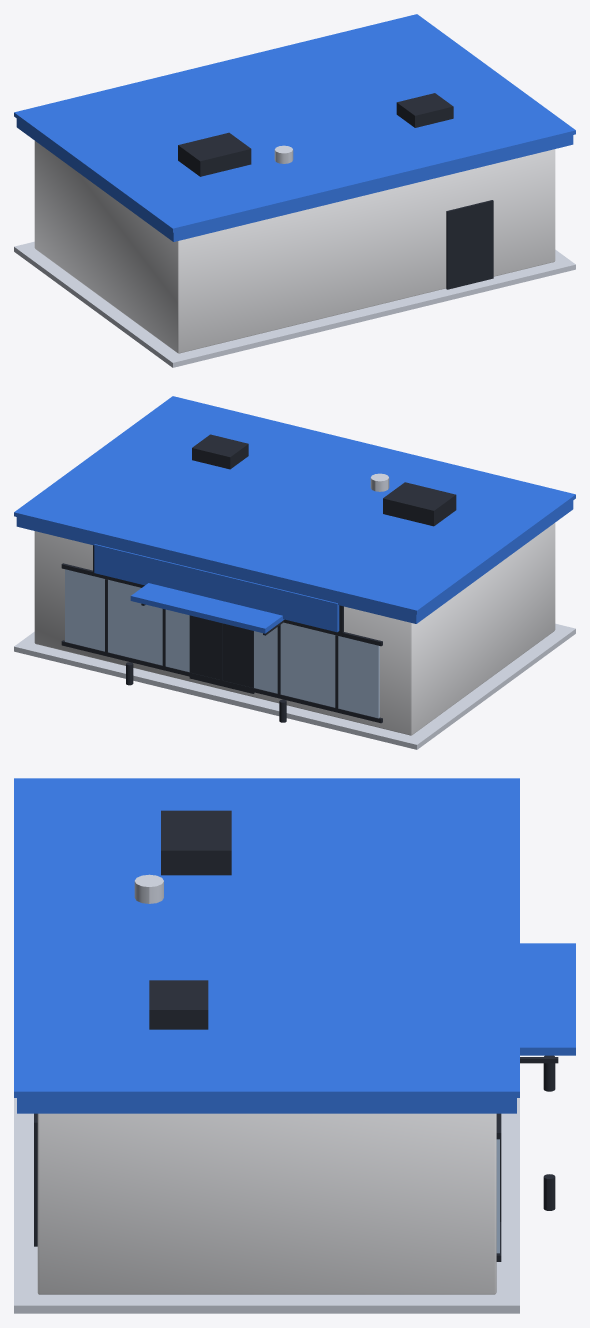
The model's file is minimarket.glb.
3 renders of one model, top to bottom at view 1: azimuth 30°, elevation 25°; view 2: azimuth 150°, elevation 25°; view 3: azimuth 270°, elevation 25°, orthographic. The views are drawn at different scales.
Visible parts, largest first — view 1: Minimarket_RoofTrim, Minimarket_Body, Minimarket_Base, Minimarket_Roof, Minimarket_ServiceDoorFrame, Minimarket_HVAC_1, Minimarket_ServiceDoor, Minimarket_HVAC_2; view 2: Minimarket_RoofTrim, Minimarket_Body, Minimarket_Storefront_Glass, Minimarket_Base, Signage, Minimarket_Roof, Minimarket_EntranceDoor, Minimarket_Canopy, Minimarket_HVAC_1, Minimarket_Storefront_Frame_Bot, Minimarket_HVAC_2, Minimarket_Storefront_Frame_Top; view 3: Minimarket_RoofTrim, Minimarket_Body, Minimarket_Base, Minimarket_Roof, Minimarket_Canopy, Minimarket_HVAC_1, Minimarket_HVAC_2, Minimarket_Vent.
Boxes of the visible parts, x1=… form: Minimarket_RoofTrim: x1=14, y1=14, x2=575, y2=232; Minimarket_Body: x1=34, y1=141, x2=555, y2=353; Minimarket_Base: x1=14, y1=241, x2=575, y2=367; Minimarket_Roof: x1=16, y1=118, x2=573, y2=241; Minimarket_ServiceDoorFrame: x1=446, y1=200, x2=493, y2=289; Minimarket_HVAC_1: x1=178, y1=132, x2=251, y2=176; Minimarket_ServiceDoor: x1=449, y1=208, x2=489, y2=287; Minimarket_HVAC_2: x1=396, y1=93, x2=453, y2=127; Minimarket_RoofTrim: x1=14, y1=396, x2=575, y2=614; Minimarket_Body: x1=34, y1=523, x2=555, y2=735; Minimarket_Storefront_Glass: x1=65, y1=569, x2=379, y2=718; Minimarket_Base: x1=14, y1=623, x2=575, y2=749; Signage: x1=94, y1=544, x2=339, y2=632; Minimarket_Roof: x1=16, y1=500, x2=573, y2=623; Minimarket_EntranceDoor: x1=189, y1=615, x2=254, y2=693; Minimarket_Canopy: x1=130, y1=583, x2=284, y2=633; Minimarket_HVAC_1: x1=383, y1=482, x2=456, y2=526; Minimarket_Storefront_Frame_Bot: x1=61, y1=640, x2=382, y2=723; Minimarket_HVAC_2: x1=192, y1=434, x2=248, y2=469; Minimarket_Storefront_Frame_Top: x1=61, y1=563, x2=382, y2=646; Minimarket_RoofTrim: x1=14, y1=778, x2=519, y2=1097; Minimarket_Body: x1=37, y1=1113, x2=496, y2=1294; Minimarket_Base: x1=14, y1=1098, x2=519, y2=1313; Minimarket_Roof: x1=17, y1=1098, x2=516, y2=1113; Minimarket_Canopy: x1=520, y1=943, x2=575, y2=1055; Minimarket_HVAC_1: x1=161, y1=810, x2=231, y2=875; Minimarket_HVAC_2: x1=149, y1=980, x2=208, y2=1029; Minimarket_Vent: x1=134, y1=874, x2=163, y2=903.
Size of the model in its own units: 12.6 by 4.62 by 9.55.
